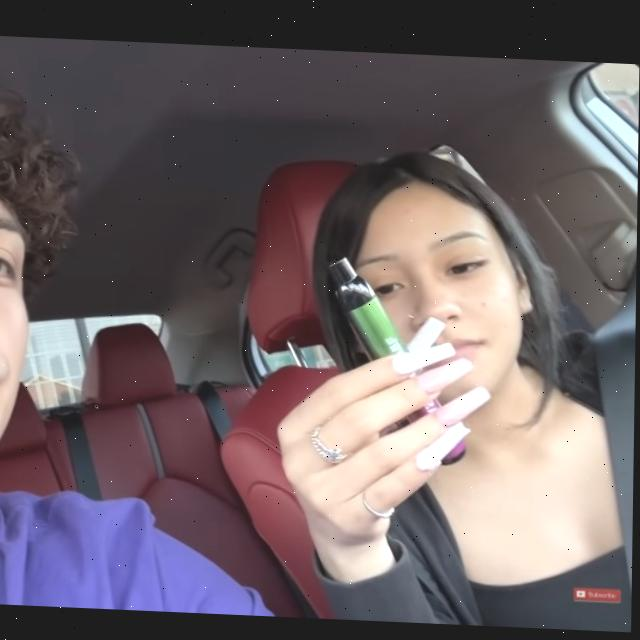vape: (325, 251, 471, 463)
